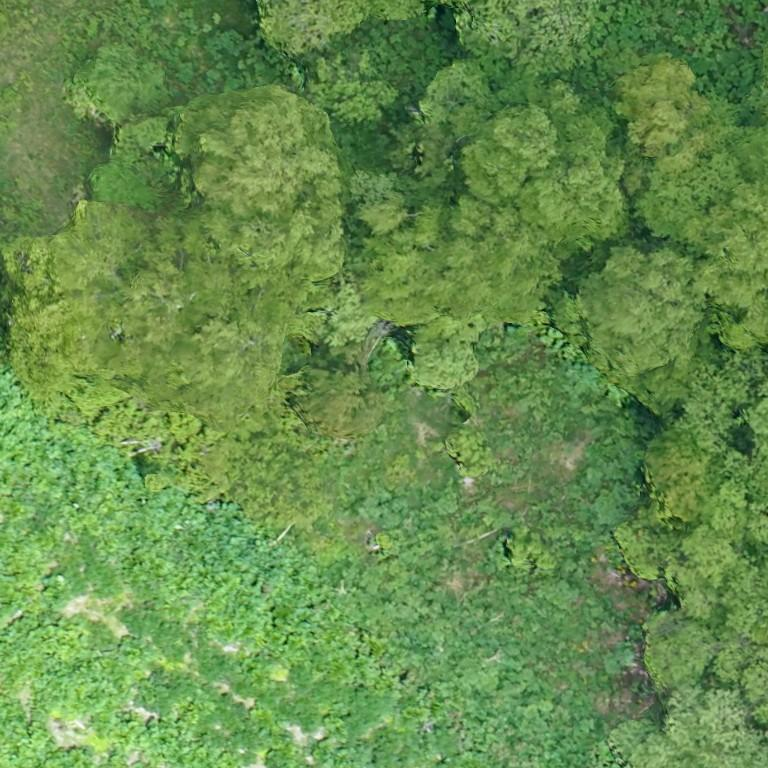hogweed: (0, 364, 605, 767), (0, 616, 138, 767), (96, 701, 238, 767), (311, 715, 419, 767), (265, 748, 304, 767)
